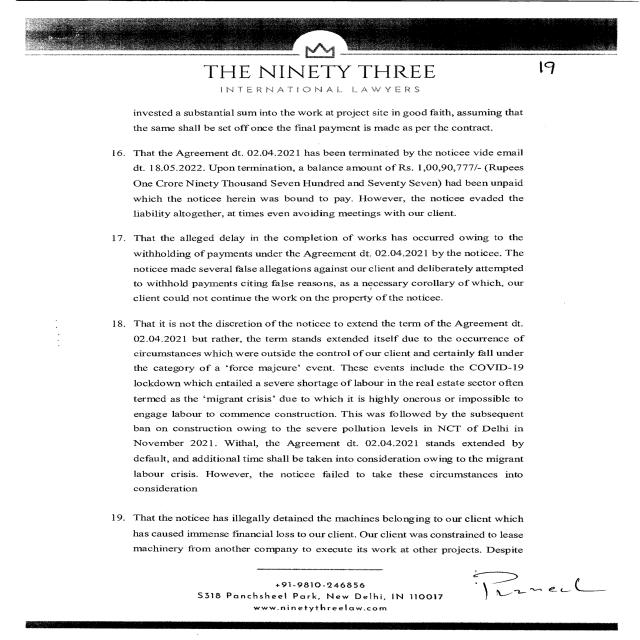page-number: (488, 58, 640, 96)
